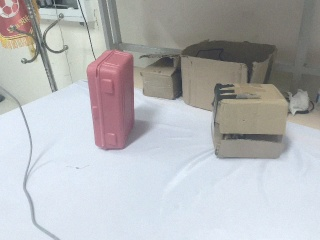box: (176, 41, 281, 113), (86, 46, 140, 154), (212, 83, 288, 158), (139, 55, 182, 99)
